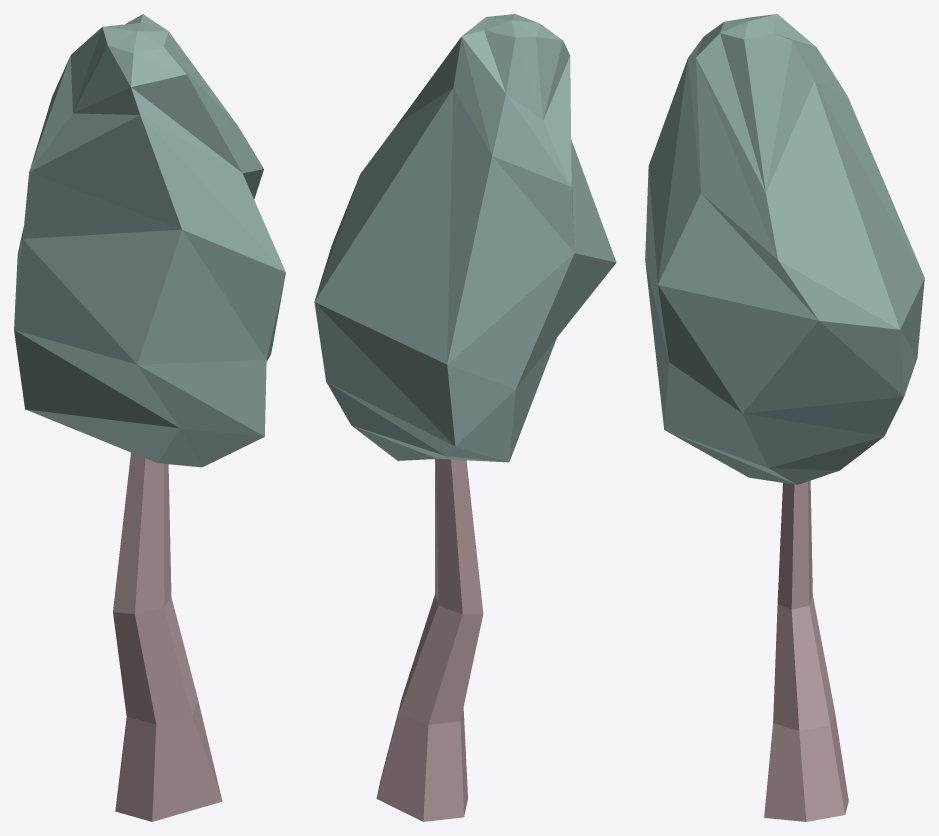
Rendered from SM_Tree_001.fbx.
3 views of the same model, side by side, from view 1: azimuth 30°, elevation 25°; view 2: azimuth 150°, elevation 25°; view 3: azimuth 270°, elevation 25° (orthographic). The views are drawn at different scales.
Parts seen in each view (by area): view 1: SM_Tree_001; view 2: SM_Tree_001; view 3: SM_Tree_001.
Boxes of the visible parts, box(x1,y1,x2,y2) form: SM_Tree_001: box(14, 14, 285, 821); SM_Tree_001: box(314, 14, 616, 821); SM_Tree_001: box(645, 14, 924, 821).
Bounding box in the file's own units: 254 × 818 × 272.
